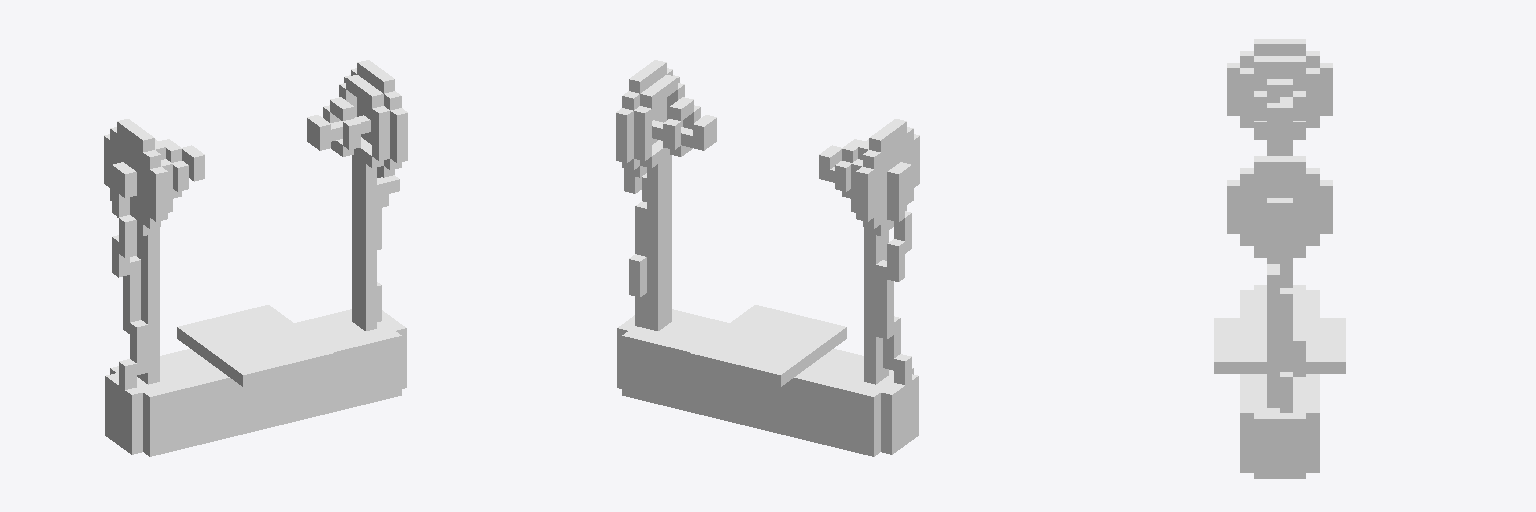
File: Shocker-1-shocker.obj
3 views of the same model, side by side, from view 1: azimuth 30°, elevation 25°; view 2: azimuth 150°, elevation 25°; view 3: azimuth 270°, elevation 25° (orthographic).
Visible parts, largest first — view 1: shocker; view 2: shocker; view 3: shocker.
Boxes of the visible parts, x1,y1,x2,y2 form: shocker: [104, 60, 407, 456]; shocker: [616, 60, 919, 456]; shocker: [1214, 39, 1345, 478].
Size of the model in its own units: 2.4 by 2.6 by 1.